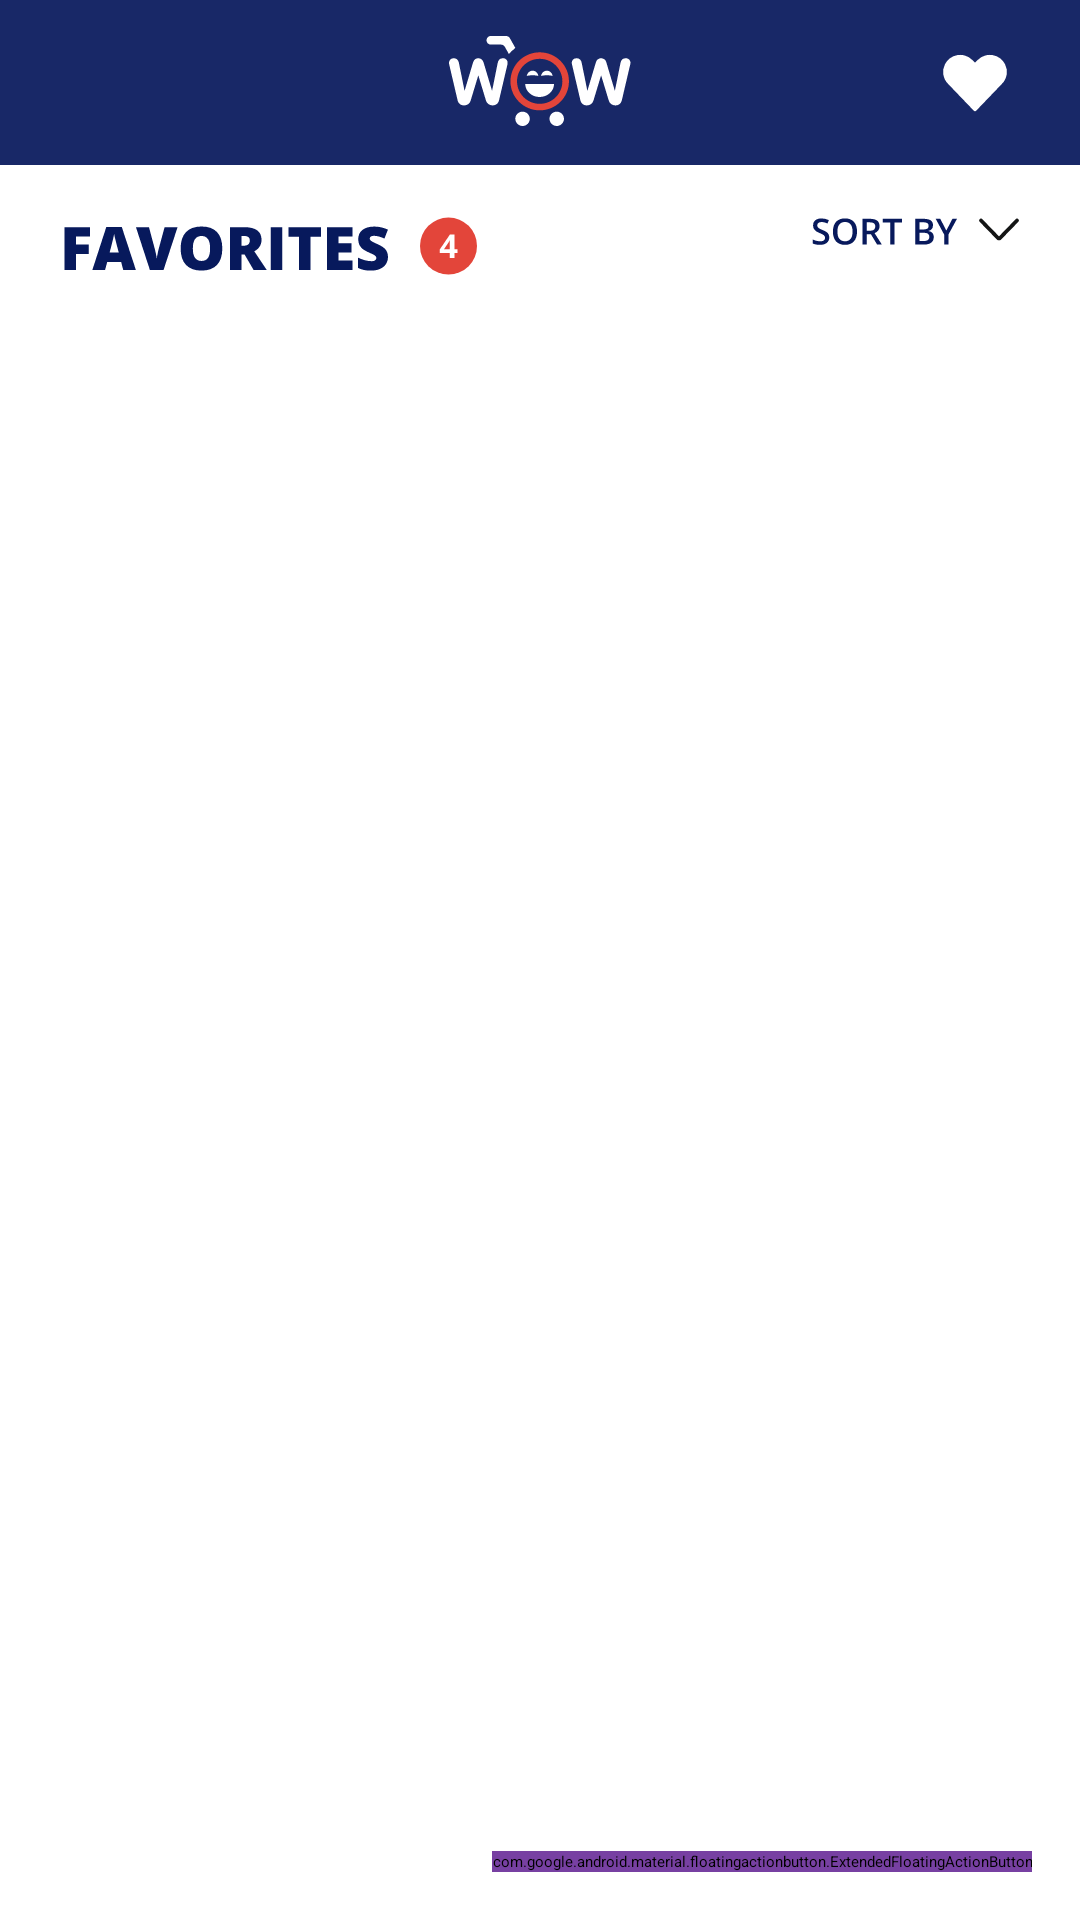

Icon bounding boxes for this 1080x1920 phone screenshot, format (x1, y1, x2, y2):
heart: (943, 55, 1007, 112)
